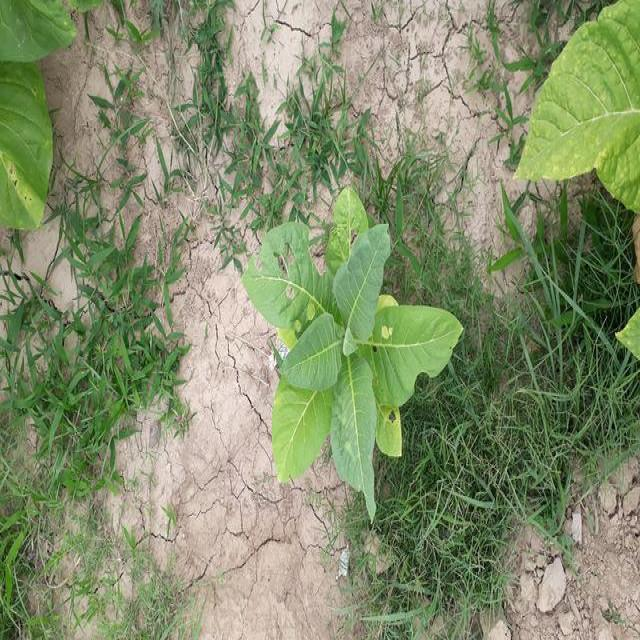crop: (236, 204, 444, 508), (520, 0, 640, 218), (0, 2, 80, 224)
